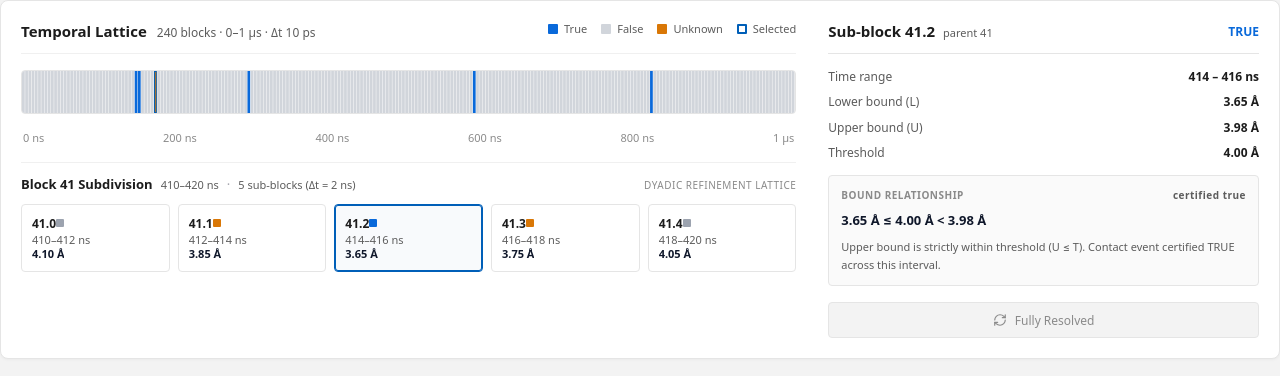
Test case: TimelineLattice Forensic Redesign Tests › updates selected sub-block and inspector when clicking a child block
The width and height of the screenshot is (1280, 376).
Click the button with test id "sub-block-41.0" at [95, 238], box x1=21 y1=204 x2=170 y2=272
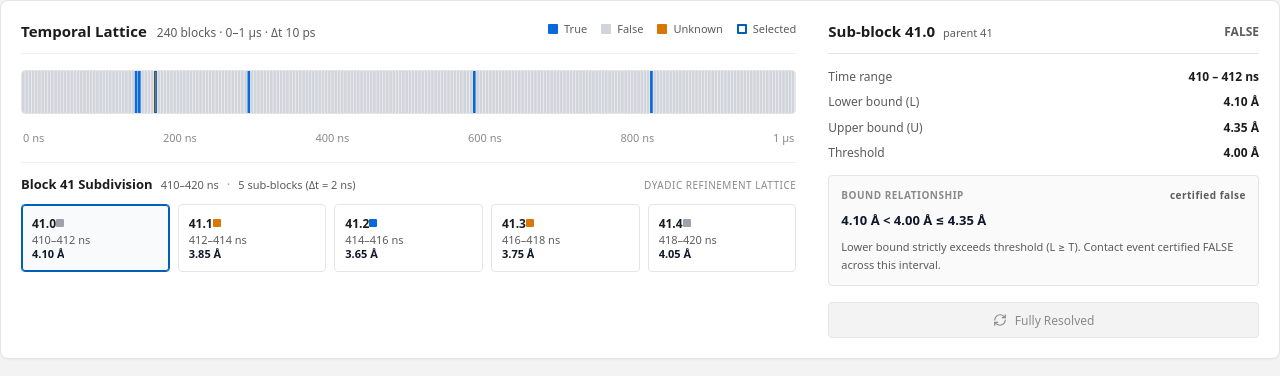
Check: the element with test id "selected-block-inspector" shows "Sub-block 41.0", box x1=828 y1=21 x2=935 y2=41
Check: the element with test id "selected-block-inspector" shows "FALSE", box x1=1224 y1=23 x2=1259 y2=40
Check: the element with test id "selected-block-inspector" shows "410 – 412 ns", box x1=1189 y1=68 x2=1259 y2=85
